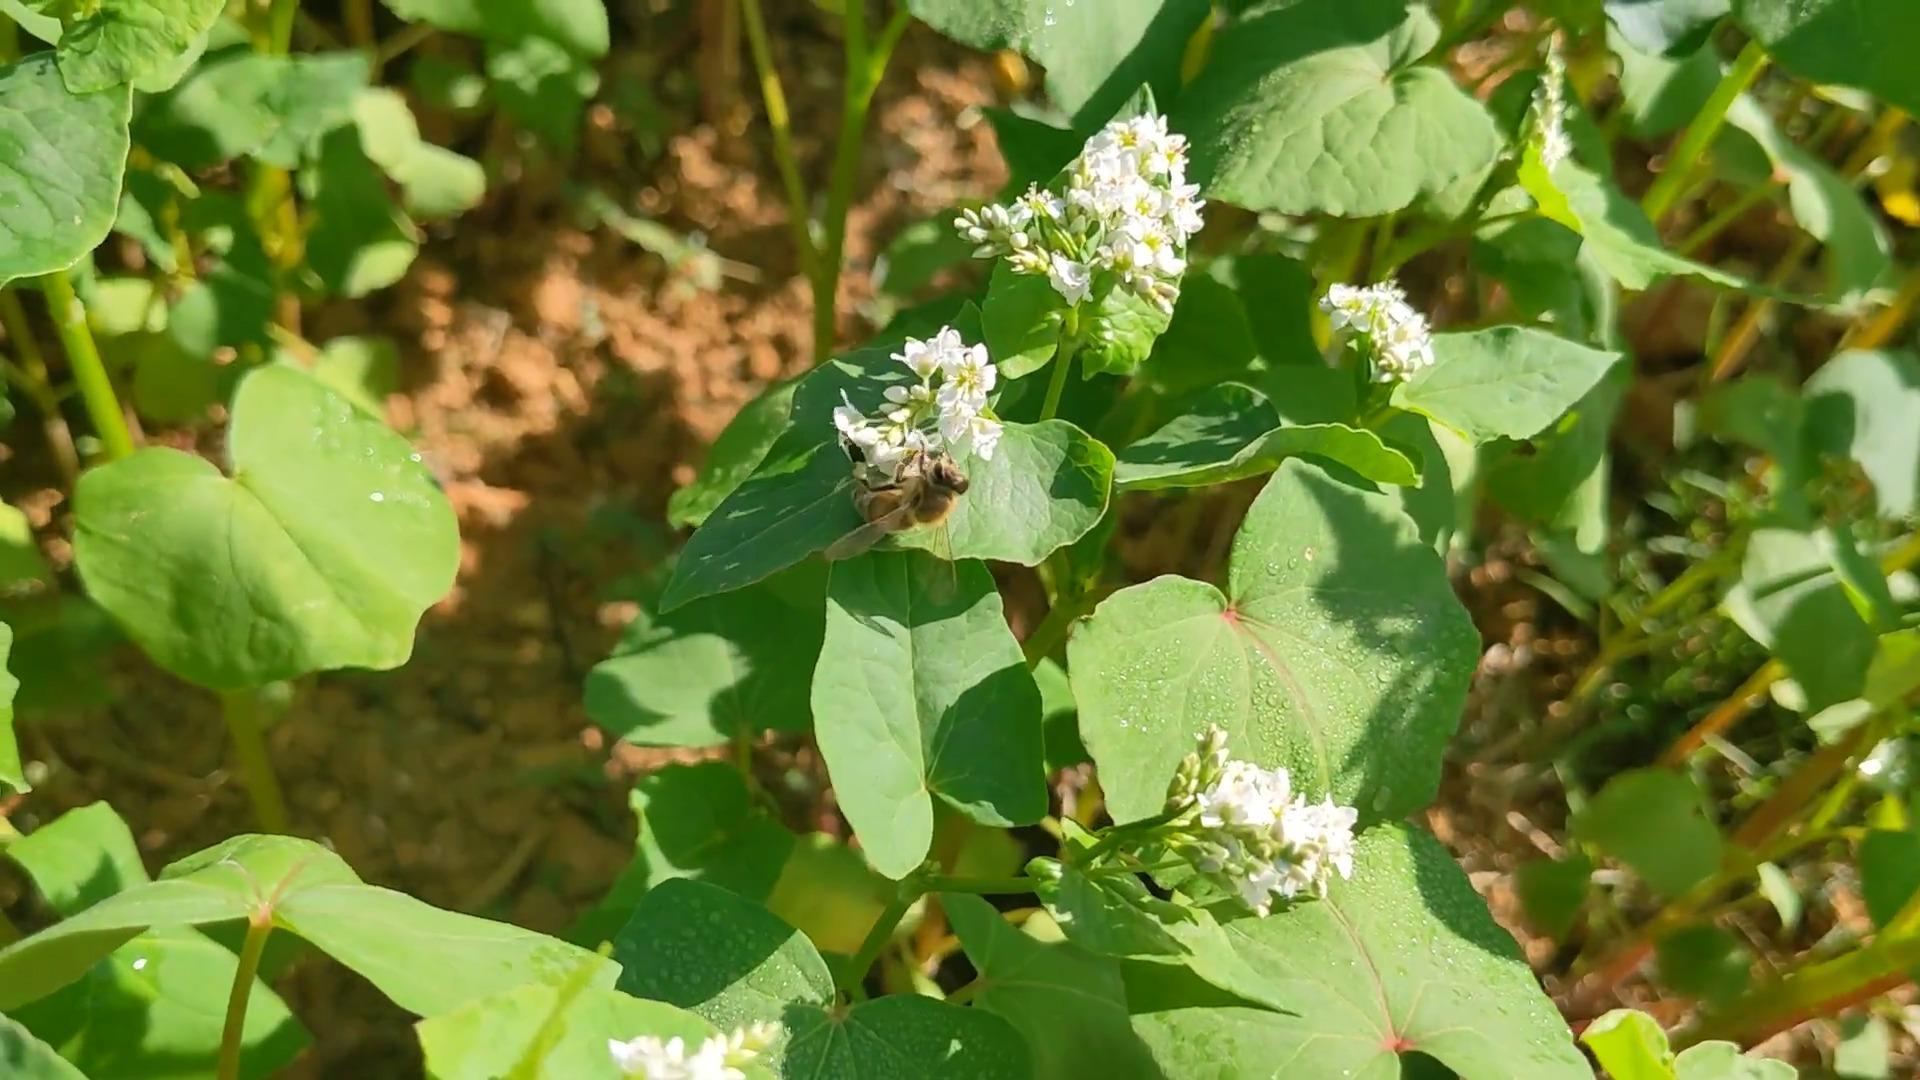bee: (861, 458, 973, 535)
